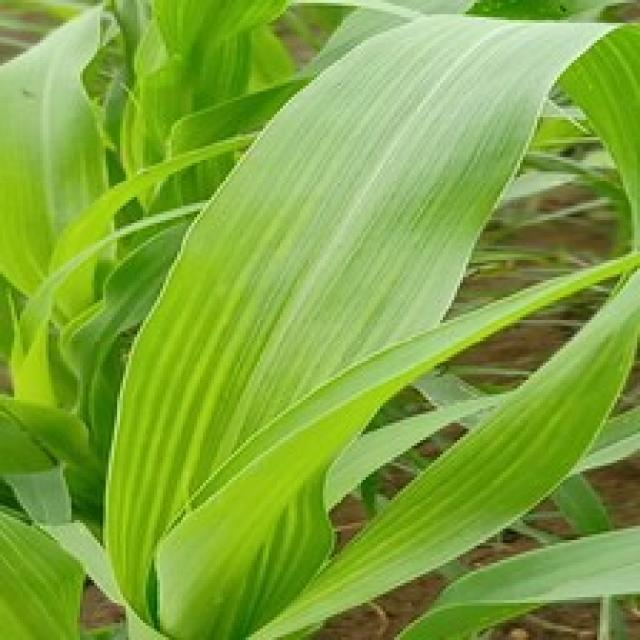Corn: (0, 0, 637, 637), (0, 0, 117, 314), (0, 483, 86, 637)
